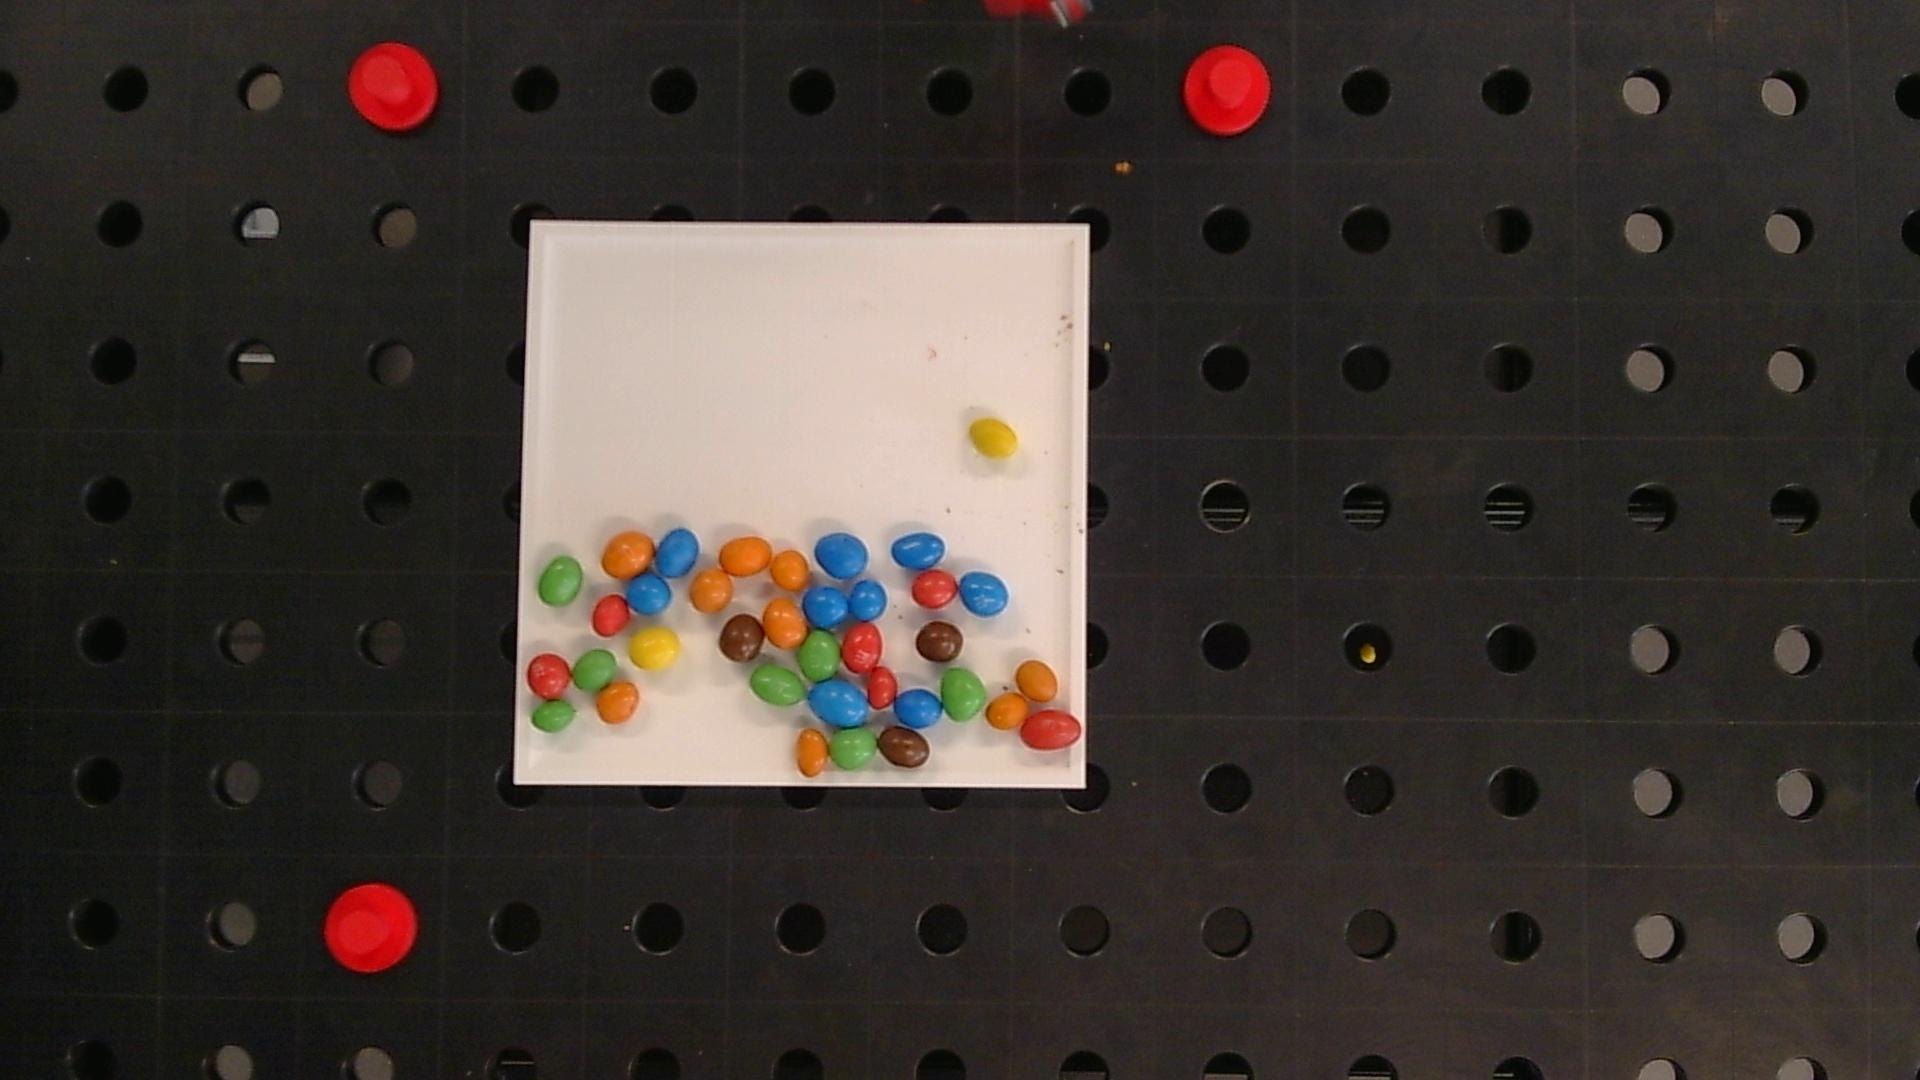blue: (808, 679, 869, 727), (815, 531, 869, 579), (960, 571, 1009, 616), (890, 531, 947, 570), (655, 527, 699, 576), (894, 688, 943, 728), (803, 585, 848, 628), (628, 572, 671, 615), (849, 579, 886, 620)
brown: (877, 725, 930, 767), (720, 613, 765, 662), (915, 621, 964, 663)
green: (942, 669, 986, 721), (750, 665, 807, 705), (538, 556, 583, 605), (829, 728, 878, 770), (799, 630, 840, 680), (574, 650, 616, 691), (531, 700, 576, 733)
orange: (601, 530, 655, 579), (764, 599, 807, 647), (719, 535, 771, 575), (596, 680, 640, 724), (691, 568, 733, 612), (1017, 659, 1059, 703), (770, 549, 808, 591), (796, 729, 829, 777), (986, 694, 1029, 729)
red: (1019, 711, 1083, 749), (526, 653, 571, 699), (843, 622, 882, 674), (911, 570, 959, 608), (592, 595, 630, 636), (866, 666, 898, 708)
yellow: (629, 626, 680, 671), (969, 418, 1019, 458)
